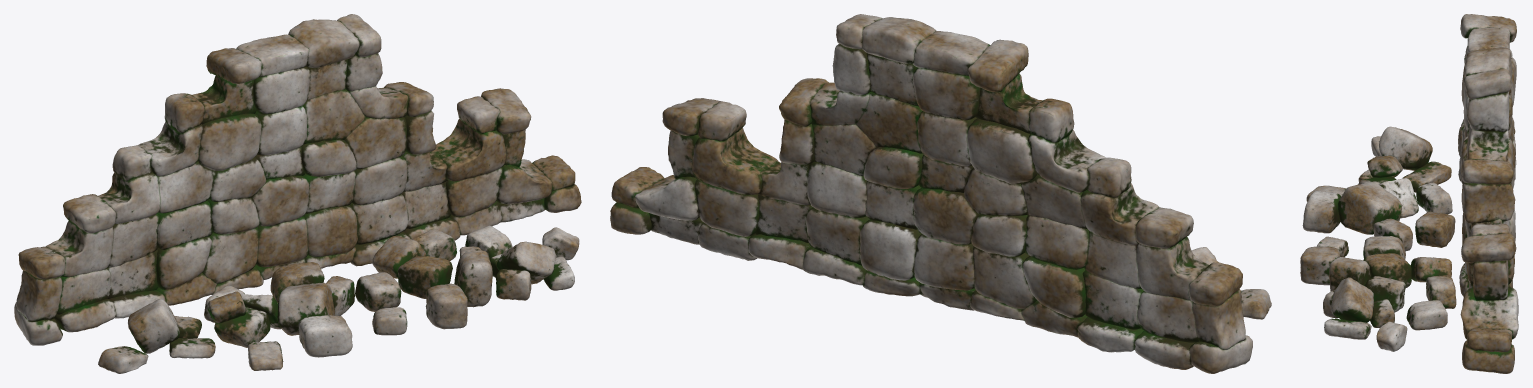
Rendered from Broken Stone Wall.fbx.
The picture shows the model from 3 angles, left to right: view 1: azimuth 30°, elevation 25°; view 2: azimuth 150°, elevation 25°; view 3: azimuth 270°, elevation 25°; orthographic projection. The views are drawn at different scales.
Visible parts, largest first — view 1: Wall, Pieces; view 2: Wall, Pieces; view 3: Pieces, Wall.
Boxes of the visible parts, x1,y1,x2,y2 form: Wall: (14, 14, 581, 345); Pieces: (98, 225, 579, 373); Wall: (610, 14, 1252, 373); Pieces: (1191, 247, 1271, 319); Pieces: (1300, 126, 1456, 351); Wall: (1458, 14, 1518, 373).
Size of the model in its own units: 409 by 170 by 155.
Materials: 2 (2 with a texture image).
